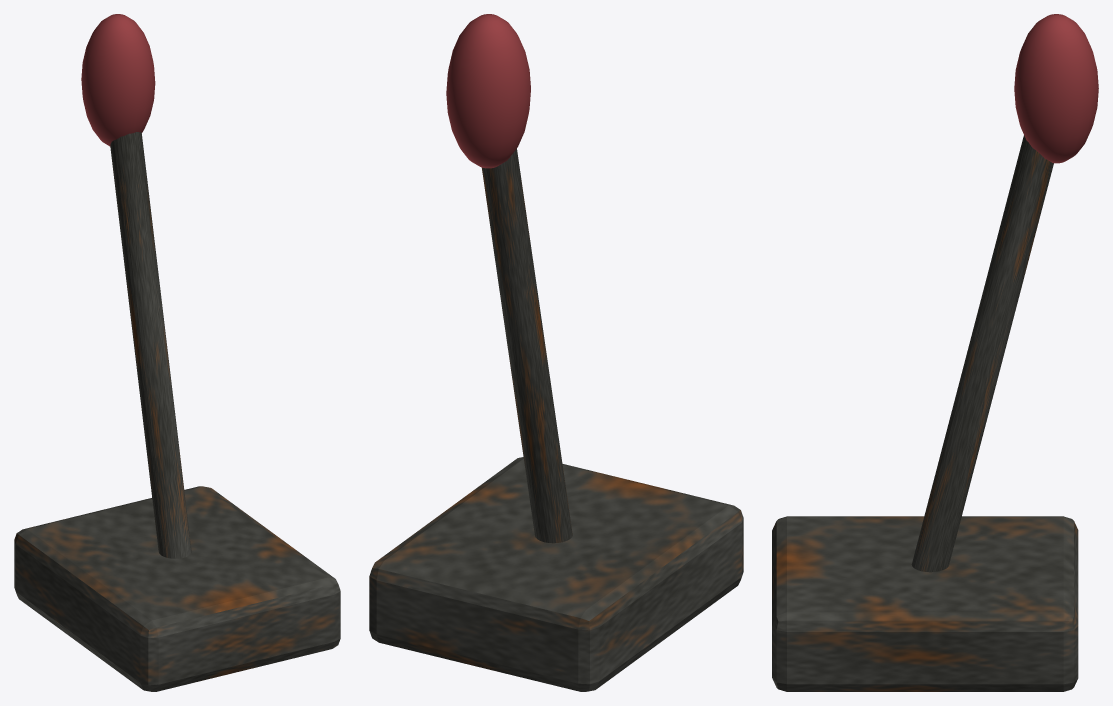
The model's file is tuas.glb.
The picture shows the model from 3 angles, left to right: view 1: azimuth 30°, elevation 25°; view 2: azimuth 150°, elevation 25°; view 3: azimuth 270°, elevation 25°; orthographic projection. The views are drawn at different scales.
Visible parts, largest first — view 1: Alas, Tuas, Gagang; view 2: Alas, Tuas, Gagang; view 3: Alas, Tuas, Gagang.
Part boxes in pixels (x1,y1,x2,y2): Alas: [14, 486, 340, 691]; Tuas: [110, 132, 191, 558]; Gagang: [81, 14, 155, 146]; Alas: [369, 457, 743, 691]; Tuas: [482, 148, 572, 543]; Gagang: [446, 14, 530, 168]; Alas: [772, 516, 1078, 691]; Tuas: [911, 135, 1053, 572]; Gagang: [1014, 14, 1098, 163].
Bounding box in the file's own units: 0.35 × 0.95 × 0.448.
2 materials, 1 textured.
